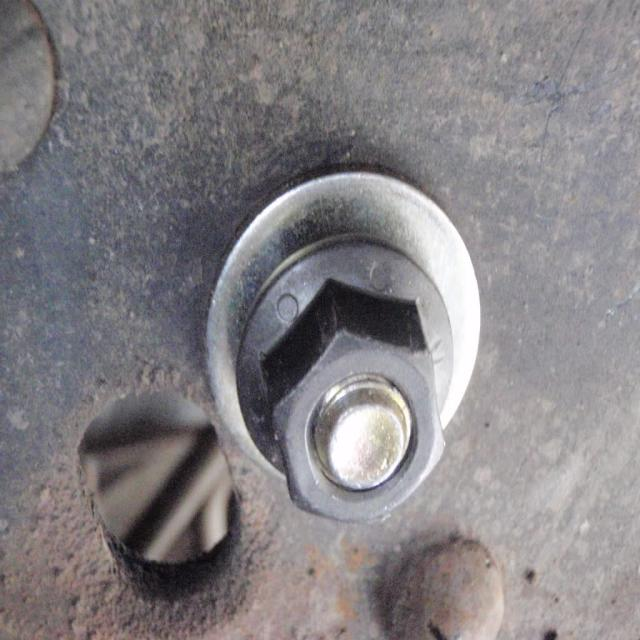bolt nut: (260, 274, 448, 533)
